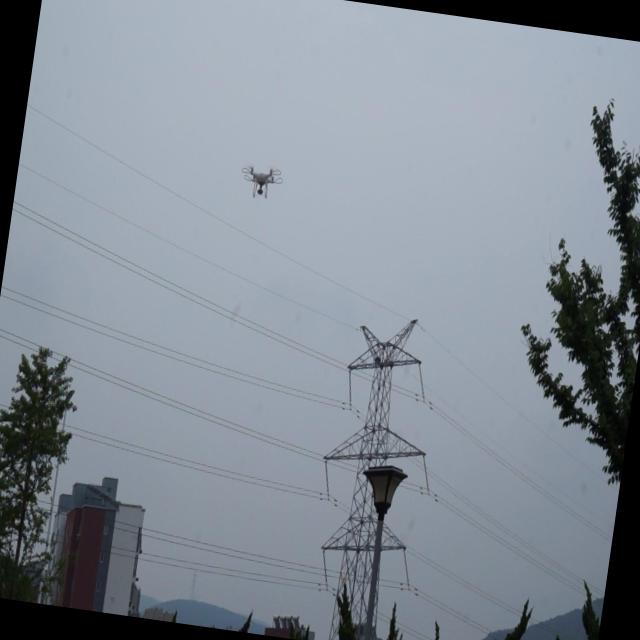drone: (238, 162, 286, 204)
